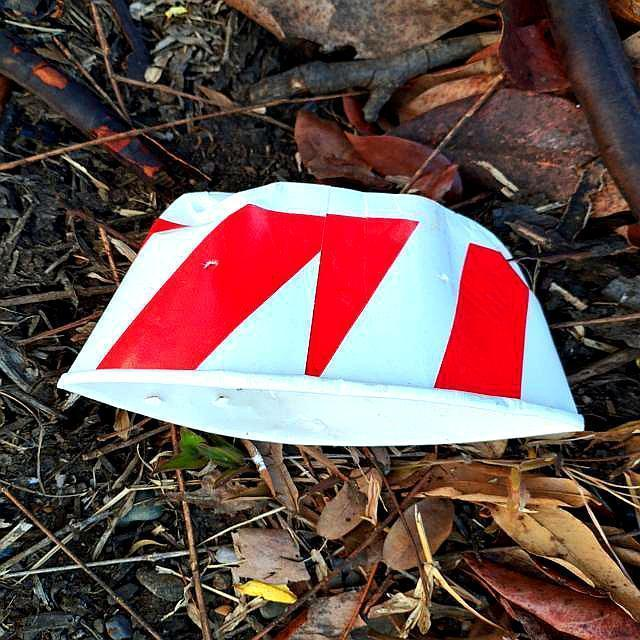Biodegradable: (59, 180, 585, 448)
